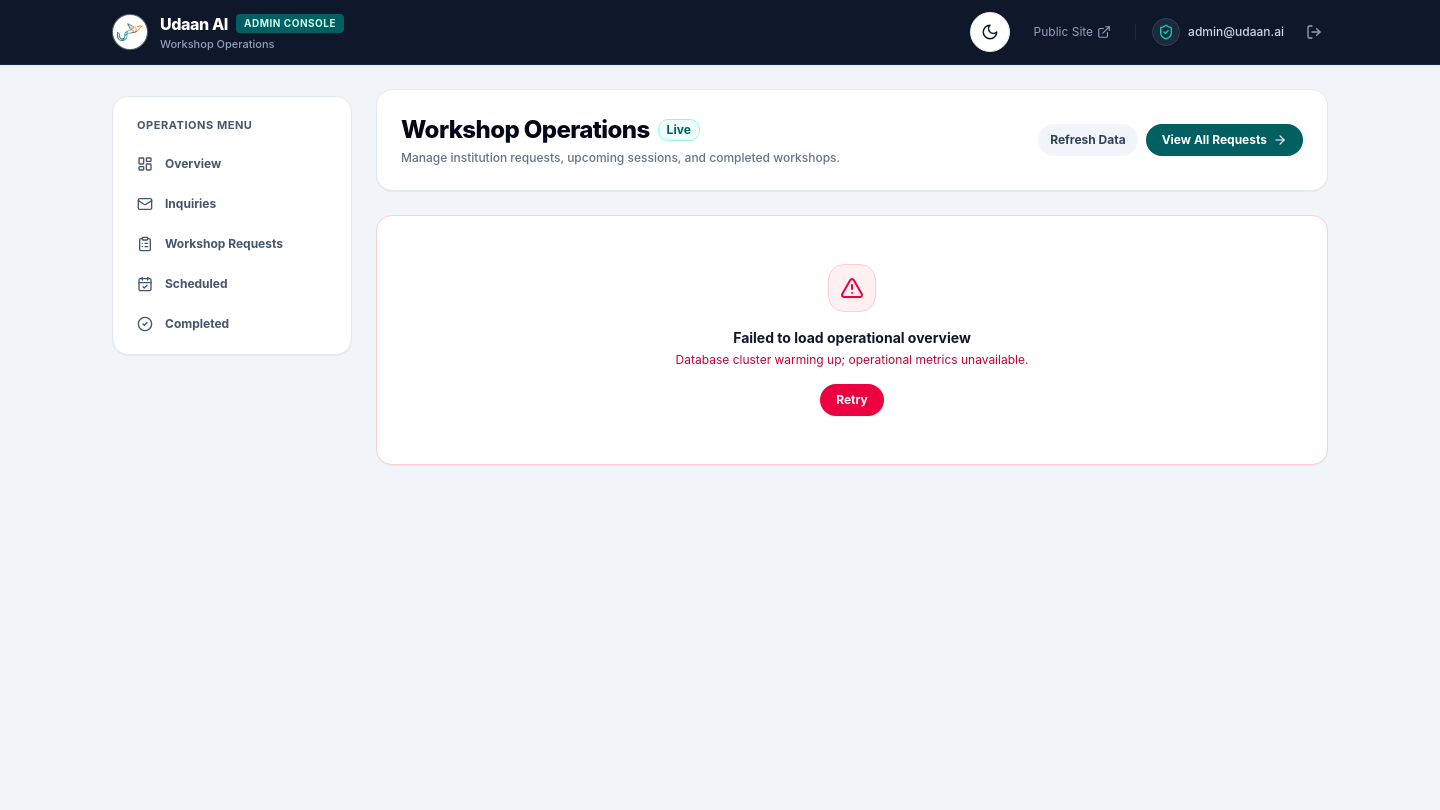
Test: AdminOverviewPage Loading and Error Recovery › handles initial load failure without showing zero metrics or "all reviewed", and recovers on Retry
Expected: the message shows "Database cluster warming up; operational metrics unavailable.", [676, 352, 1028, 367]
Expected: the text "Needs Review" is not shown
Click the button "Retry" at (852, 400), box [820, 384, 884, 416]
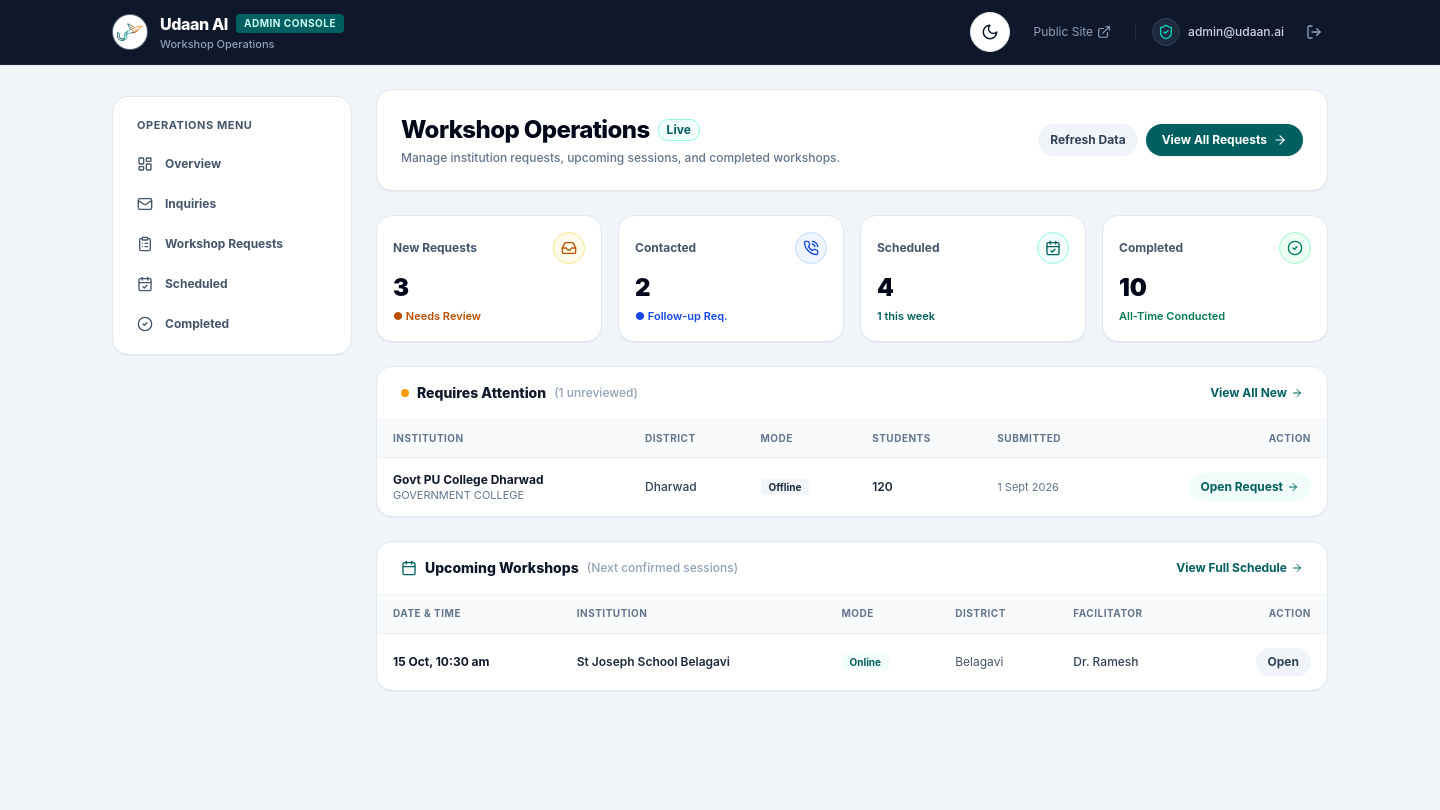
Now the message is gone
Now the text "Govt PU College Dharwad" is shown, box [393, 472, 544, 487]
Now the text "St Joseph School Belagavi" is shown, box [561, 633, 826, 690]
